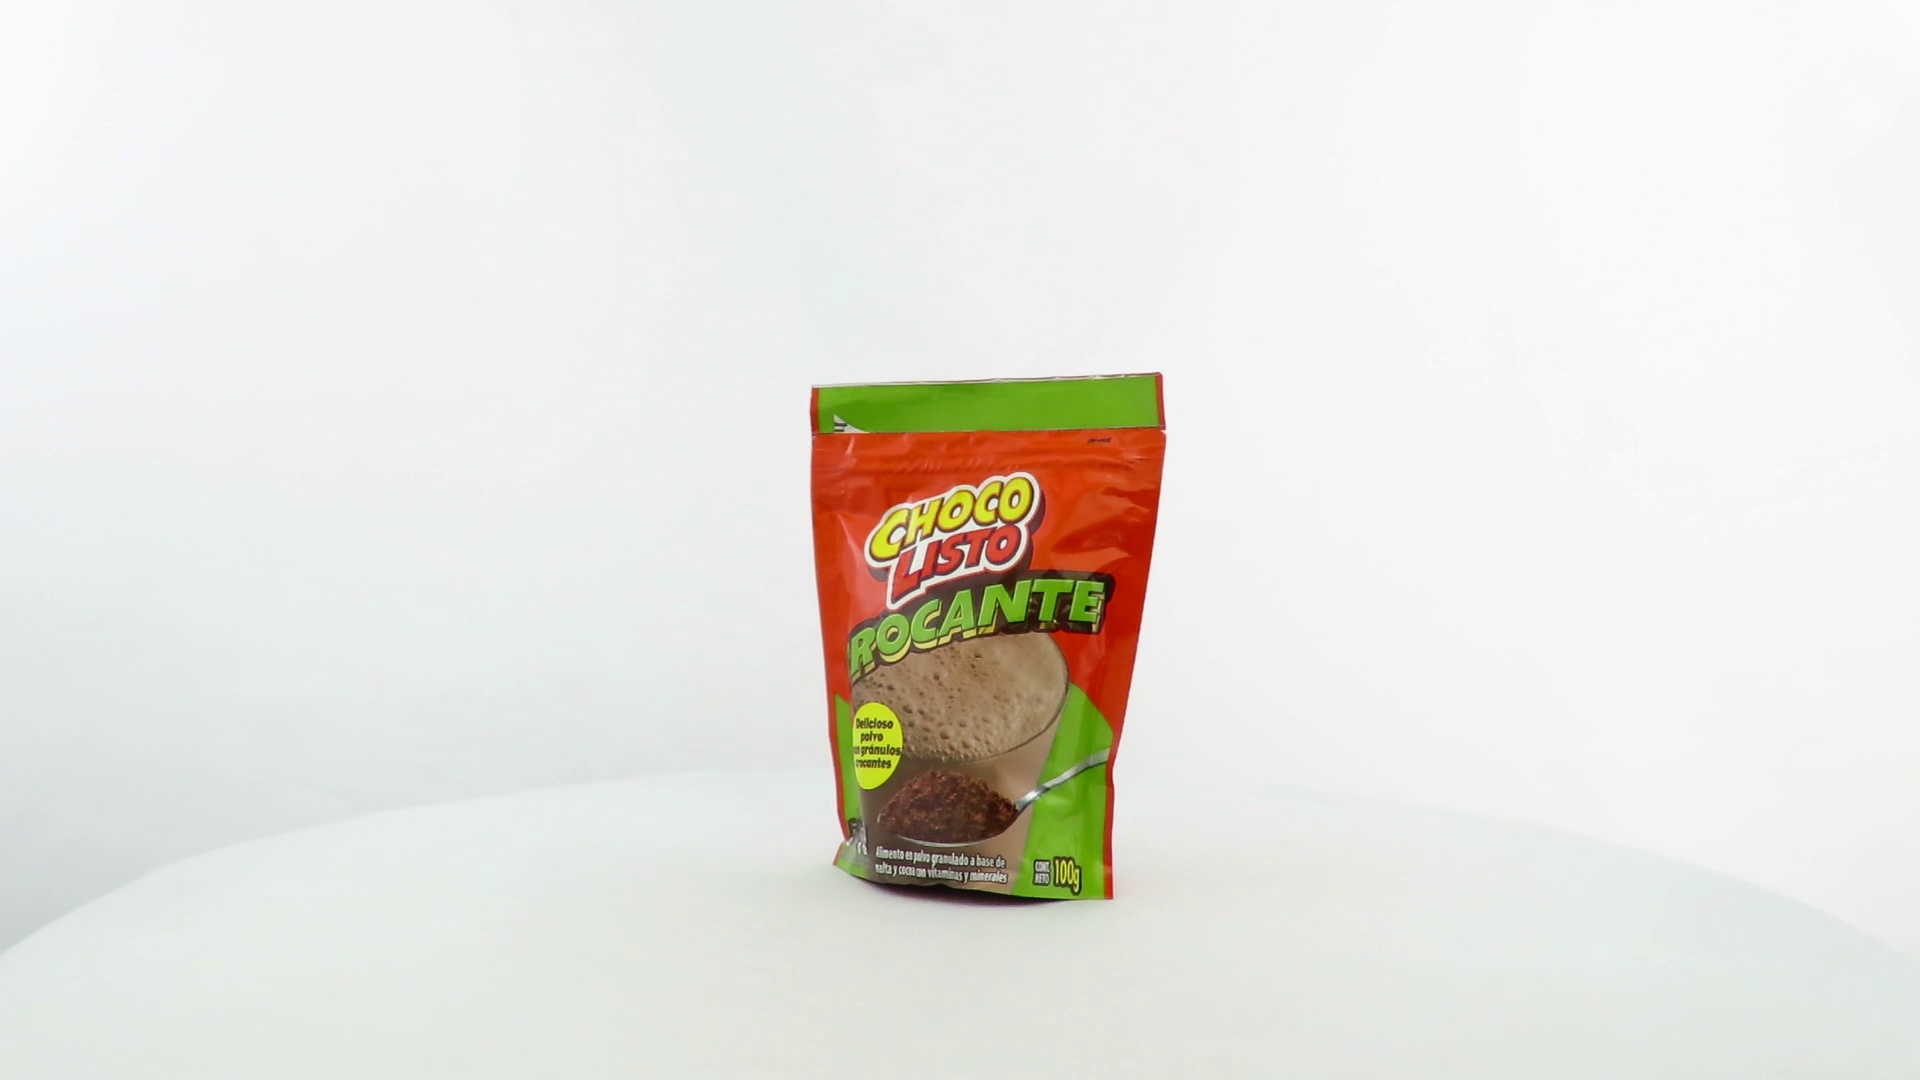COL0170102DYP10000: (804, 367, 1174, 914)
